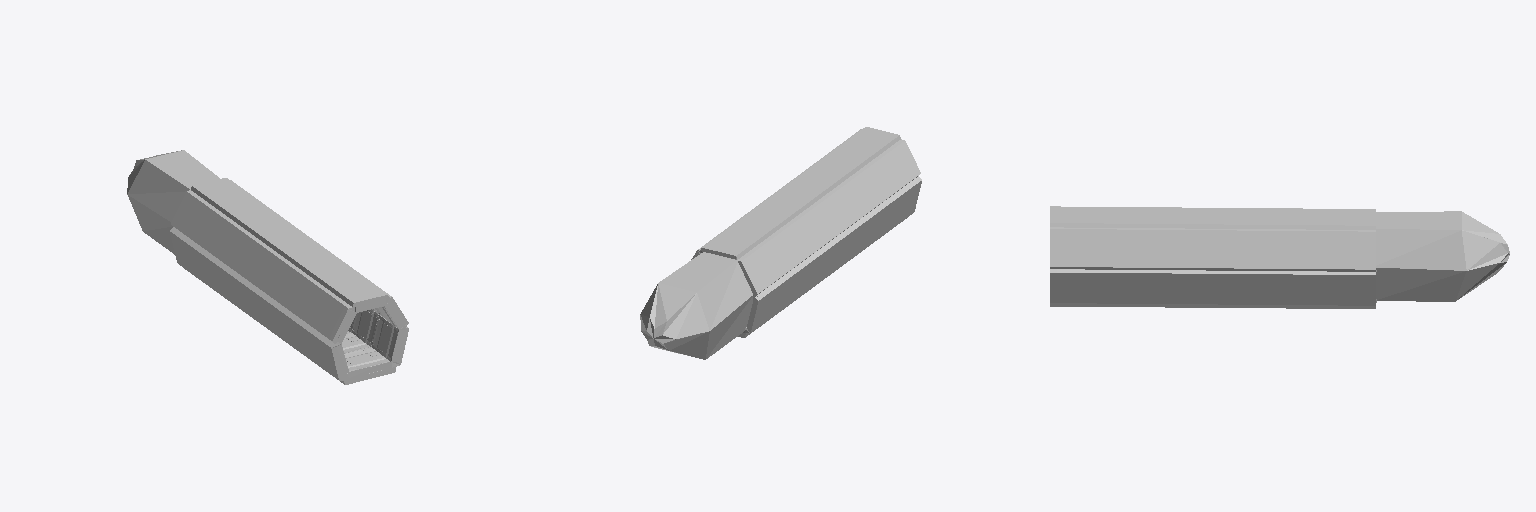
The model's file is interior.obj.
3 renders of one model, left to right at view 1: azimuth 30°, elevation 25°; view 2: azimuth 150°, elevation 25°; view 3: azimuth 270°, elevation 25°, orthographic.
Visible parts, largest first — view 1: Cube; view 2: Cube; view 3: Cube.
Boxes of the visible parts, <box> form: Cube: <box>127,150,408,384</box>; Cube: <box>640,127,921,359</box>; Cube: <box>1050,206,1509,308</box>.
Size of the model in its own units: 6.61 by 6.58 by 33.33.